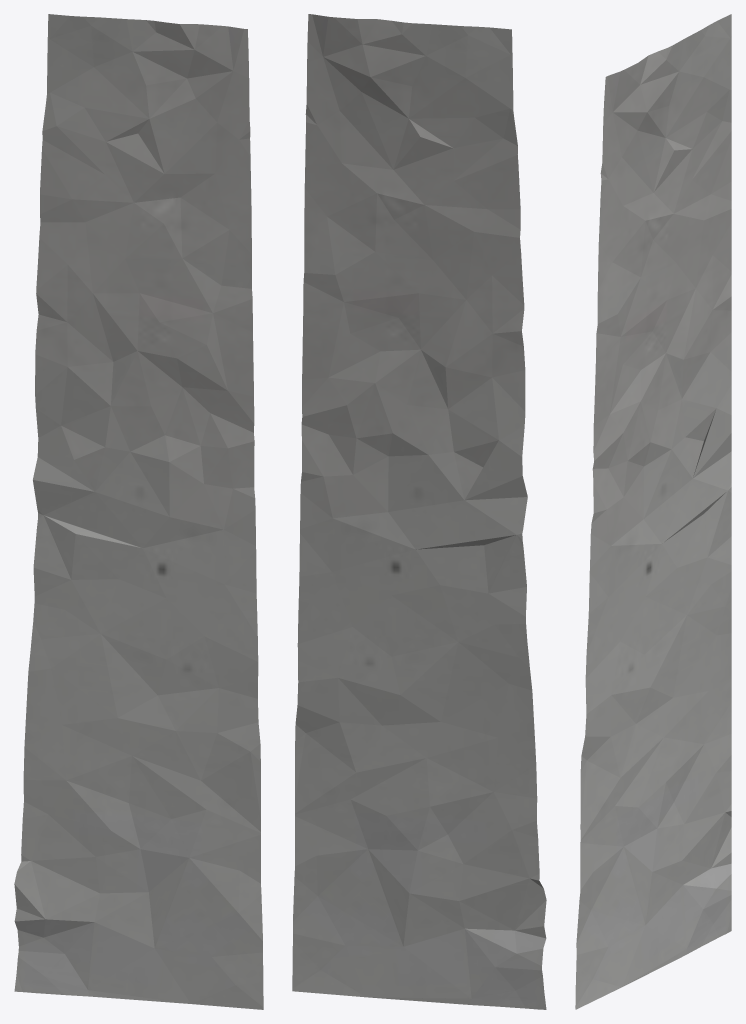
3 renders of one model, left to right at view 1: azimuth 30°, elevation 25°; view 2: azimuth 210°, elevation 25°; view 3: azimuth 270°, elevation 25°, orthographic. The views are drawn at different scales.
Bounding box in the file's own units: 0.3039 × 1.67 × 0.2539.
1 material, 1 textured.
